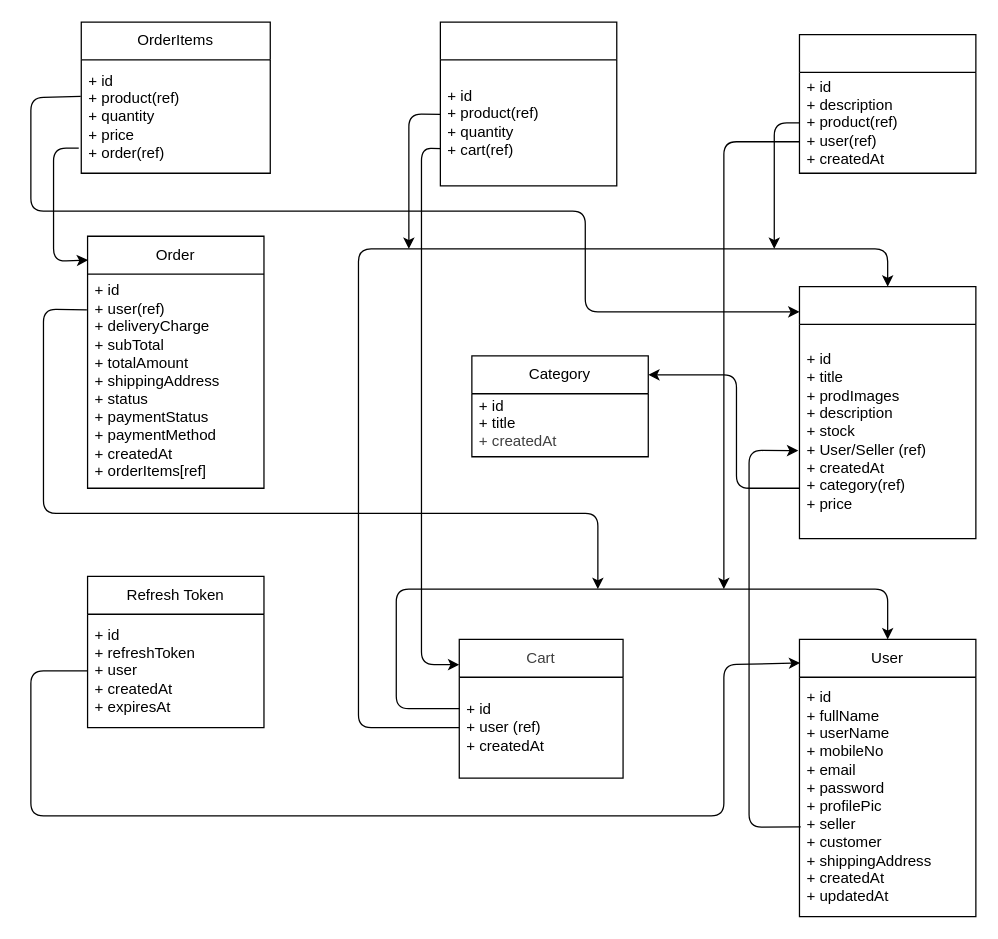
The diagram is 998 pixels wide and 939 high, and some of its shapes have lost their labels. The box of each missing label's shape, as (x1, y1, x2, y2) in pixels:
CartItems: (439, 21, 617, 186)
Product: (798, 285, 976, 539)
Review: (798, 33, 976, 173)
